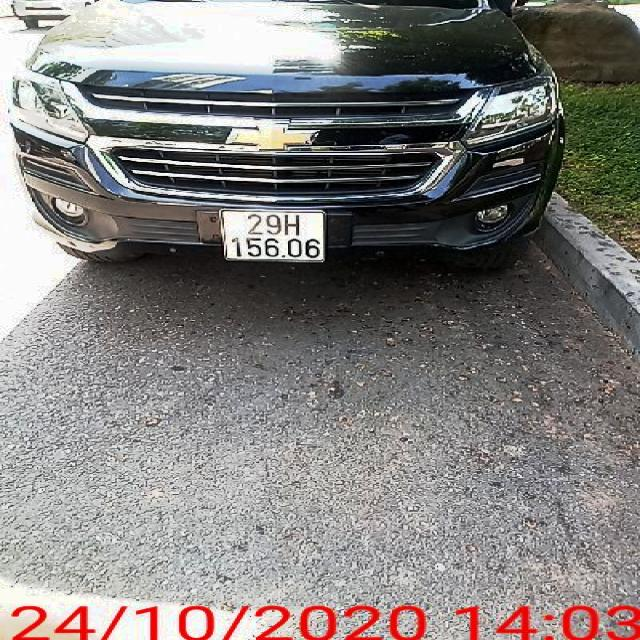license_plate: (223, 212, 325, 262)
